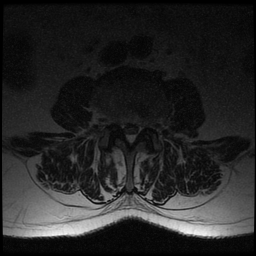CCS_normal: (127, 117, 133, 151)
LFS_severe_stenosis: (143, 115, 150, 135)
LLS_normal: (133, 117, 142, 139)
RFS_severe_stenosis: (111, 115, 120, 134)
RLS_normal: (120, 116, 127, 141)
